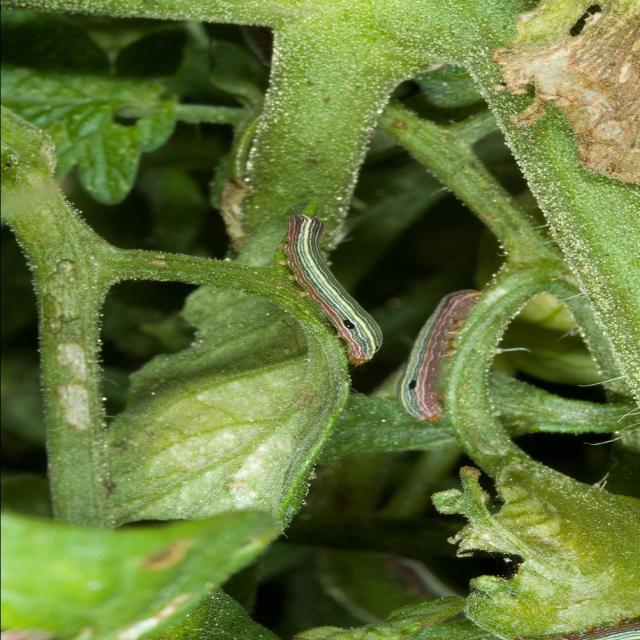army worm: (281, 209, 388, 372), (393, 289, 486, 425)
